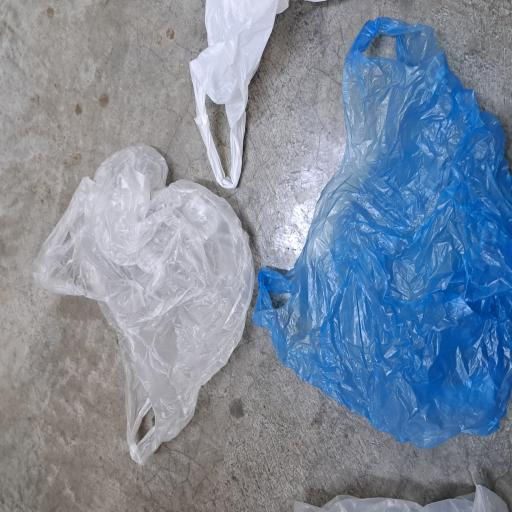plastic bag: (32, 42, 274, 340), (48, 338, 374, 512), (244, 247, 384, 390)
